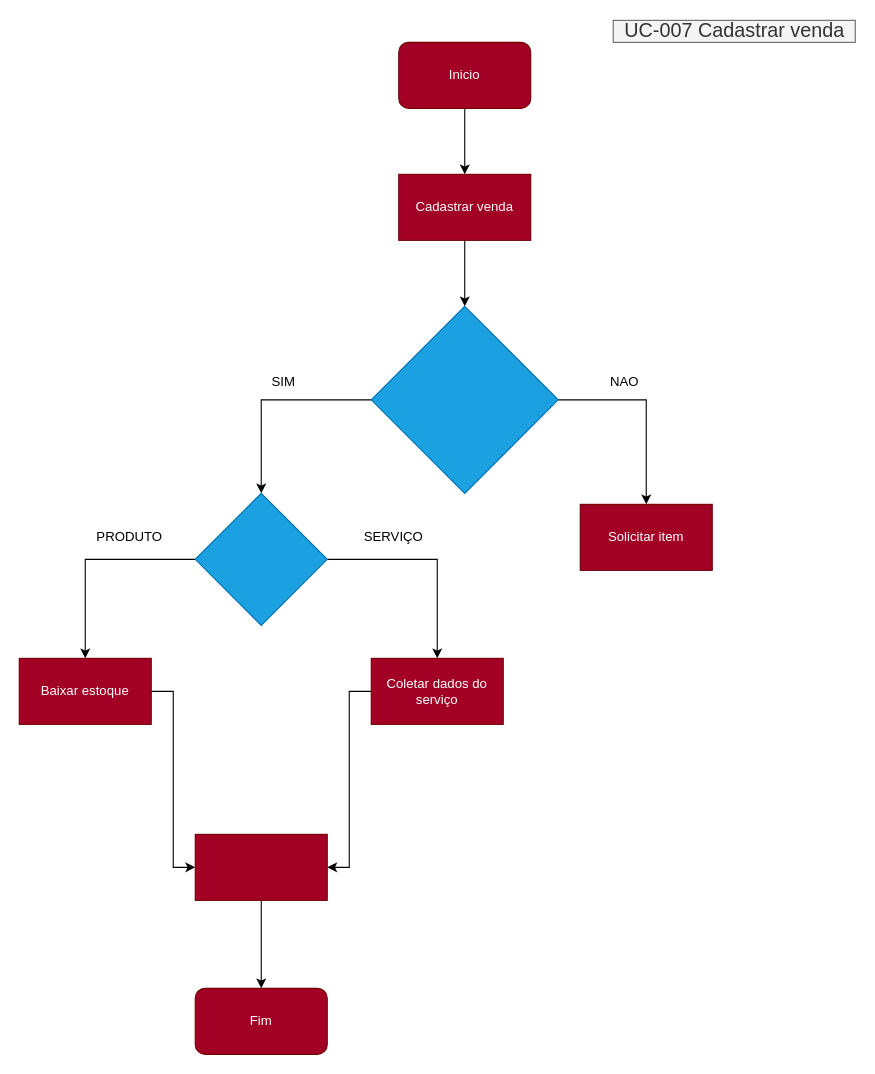
Image size: 875x1074. Some labels were removed from this diagram. Each missing label, with the centre of its shape:
"Item selecionado?" goes at point 464,399.
"Movimentar financeiro - Adicionar" goes at point 260,866.
"Produto ou serviço?" goes at point 260,558.
